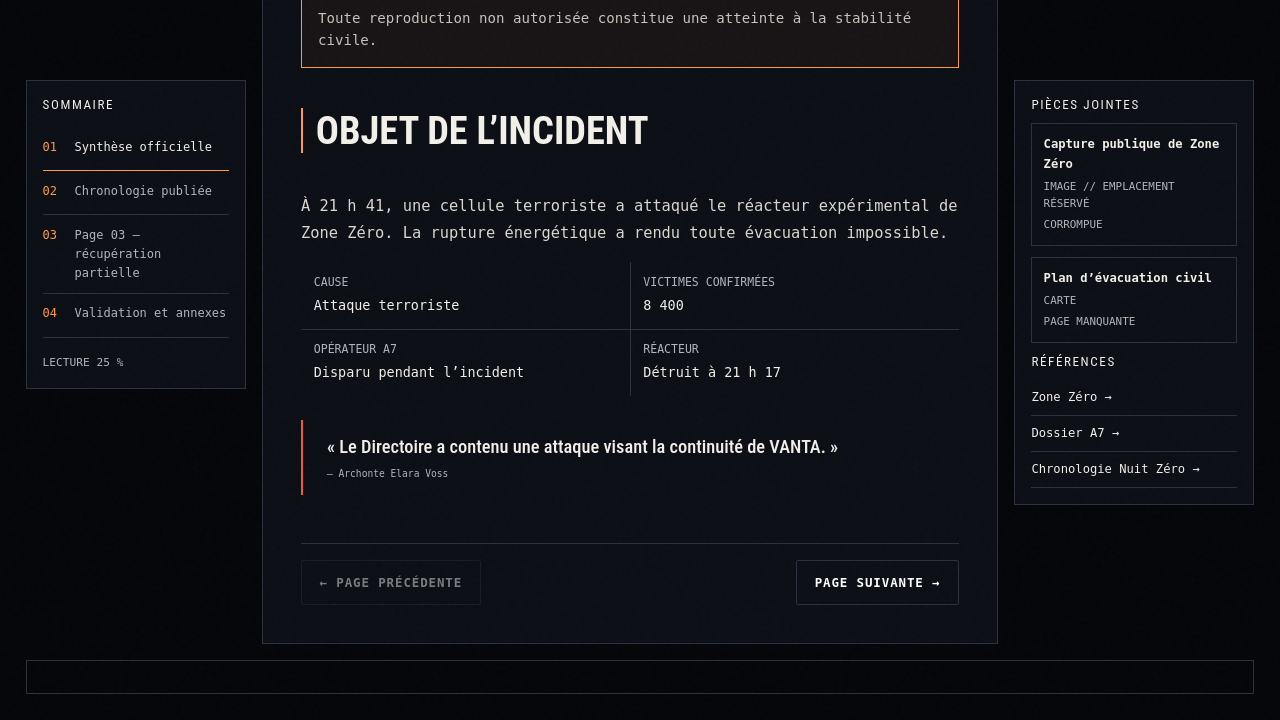
Scenario: lecteur d’archives › pagine le document
(page scrolled)
Click the button "PAGE SUIVANTE →": [878, 582] box [796,560,959,605]
(page scrolled)
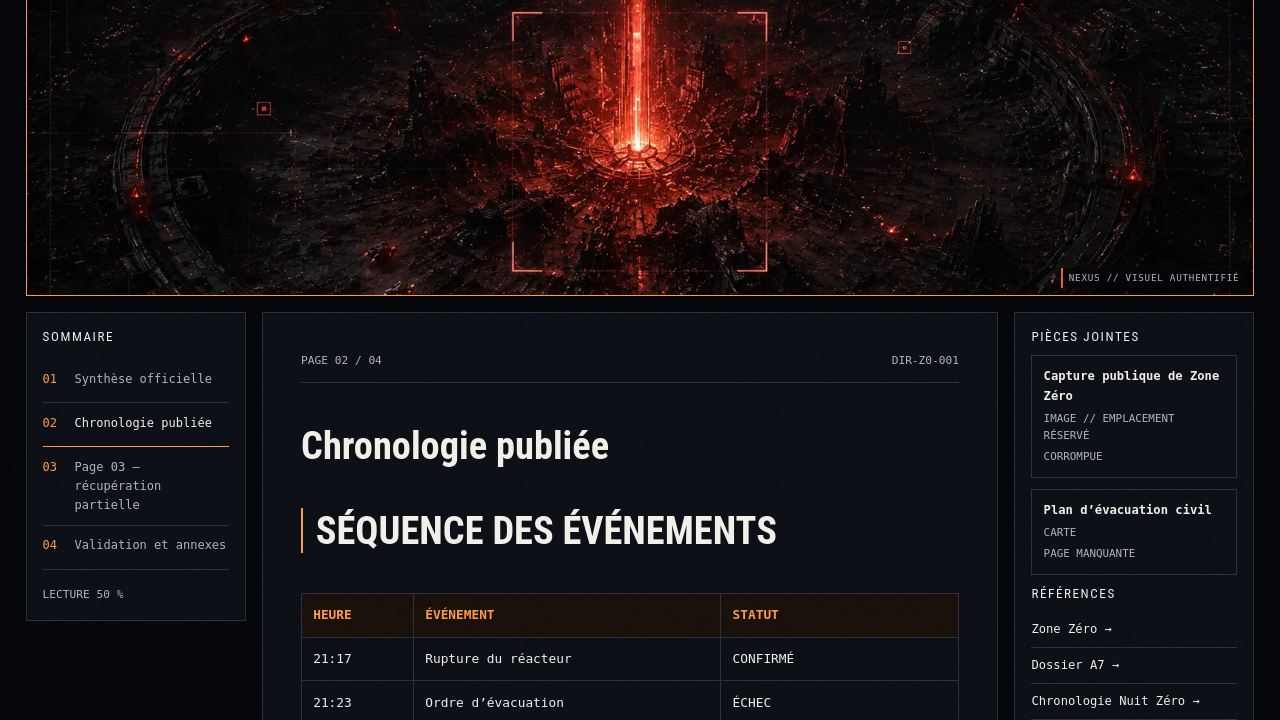
Result: the heading "Chronologie publiée" is shown at [301,423,609,468]
Result: the text "PAGE 02 / 04" is shown at [301,352,382,370]
